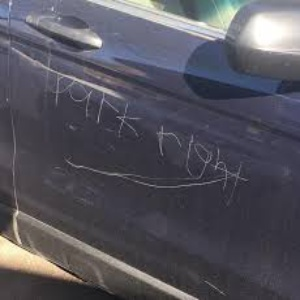door_scratch: (36, 66, 249, 207)
